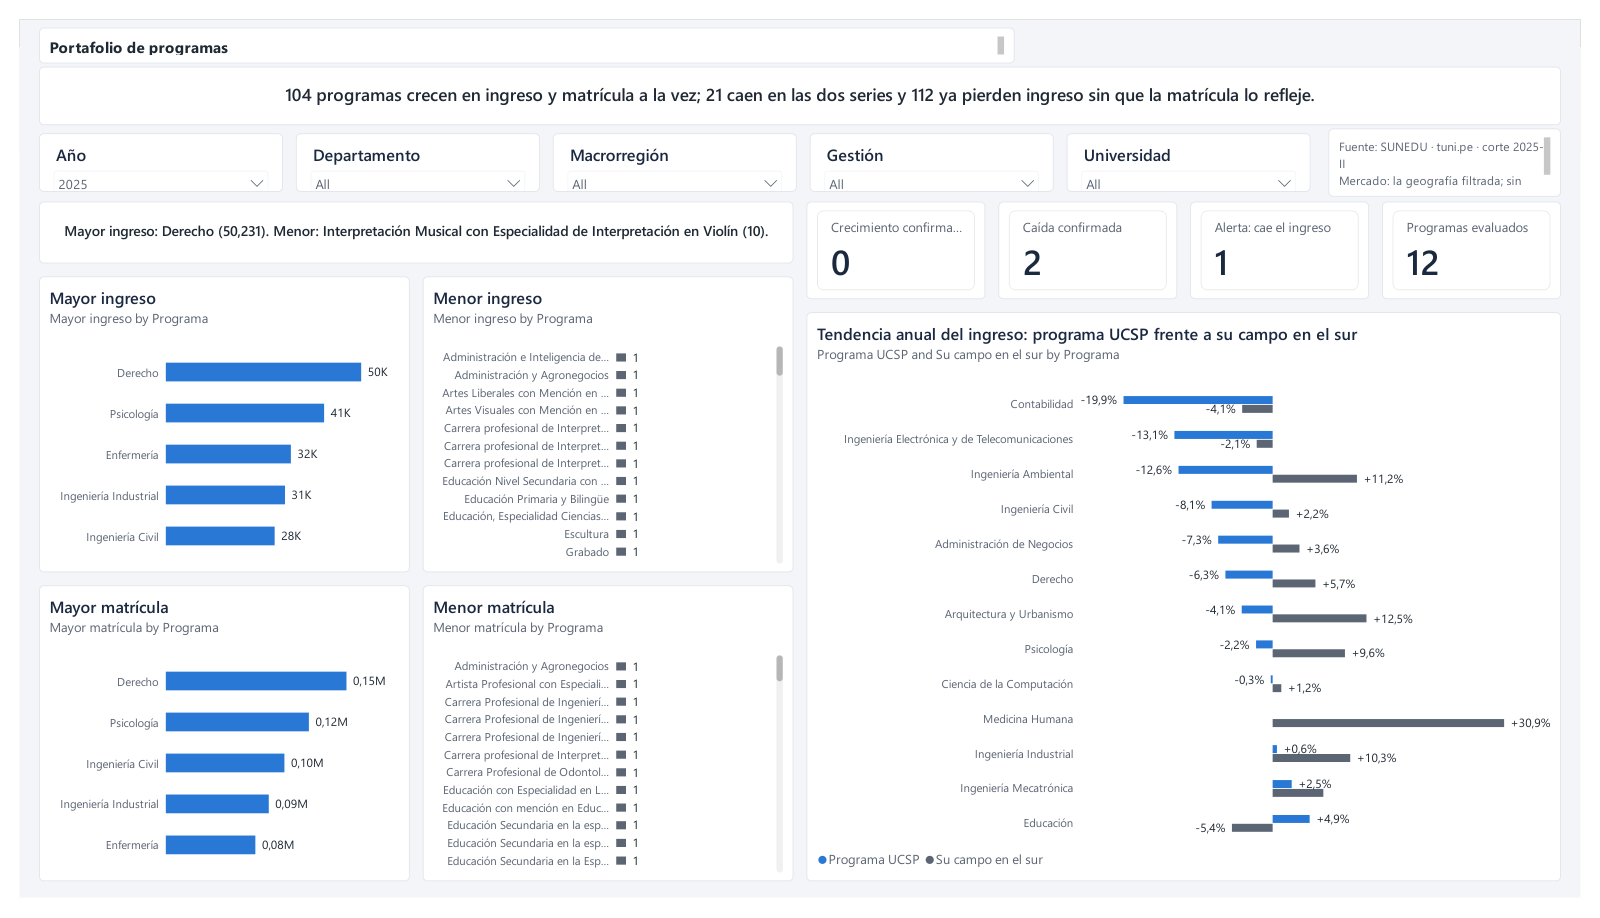

What the dashboard file says about the page in this screenshot:
{"tool":"powerbi","page":{"name":"Portafolio de programas","canvas":[1920,1080],"ordinal":2},"visuals":[{"type":"textbox","box":[24,10,1200,44],"z":0},{"type":"card","fields":{"Values":["_Medidas.Titular Tendencia"]},"box":[24,58,1872,72],"z":1000},{"type":"slicer","fields":{"Values":["dim_periodo.anio"]},"box":[24,140,300,72],"z":2000},{"type":"slicer","fields":{"Values":["dim_ubicacion.departamento"]},"box":[340,140,300,72],"z":3000},{"type":"slicer","fields":{"Values":["dim_ubicacion.macrorregion"]},"box":[656,140,300,72],"z":4000},{"type":"slicer","fields":{"Values":["dim_universidad.tipo_gestion"]},"box":[972,140,300,72],"z":5000},{"type":"slicer","fields":{"Values":["dim_universidad.nombre_universidad"]},"box":[1288,140,300,72],"z":6000},{"type":"textbox","box":[1610,134,286,84],"z":7000},{"type":"card","fields":{"Values":["_Medidas.Titular Demanda"]},"box":[24,224,928,76],"z":8000},{"type":"clusteredBarChart","title":"Mayor ingreso","fields":{"Category":["dim_programa.nombre_programa"],"Y":["_Medidas.Ingresantes"]},"box":[24,316,456,364],"z":9000},{"type":"clusteredBarChart","title":"Menor ingreso","fields":{"Category":["dim_programa.nombre_programa"],"Y":["_Medidas.Ingresantes"]},"box":[496,316,456,364],"z":10000},{"type":"clusteredBarChart","title":"Mayor matrícula","fields":{"Category":["dim_programa.nombre_programa"],"Y":["_Medidas.Matriculados"]},"box":[24,696,456,364],"z":11000},{"type":"clusteredBarChart","title":"Menor matrícula","fields":{"Category":["dim_programa.nombre_programa"],"Y":["_Medidas.Matriculados"]},"box":[496,696,456,364],"z":12000},{"type":"cardVisual","fields":{"Data":["_Medidas.Programas Crecimiento Confirmado"]},"box":[968,224,220,120],"z":13000},{"type":"cardVisual","fields":{"Data":["_Medidas.Programas Caida Confirmada"]},"box":[1204,224,220,120],"z":14000},{"type":"cardVisual","fields":{"Data":["_Medidas.Programas en Alerta"]},"box":[1440,224,220,120],"z":15000},{"type":"cardVisual","fields":{"Data":["_Medidas.Programas Evaluados"]},"box":[1676,224,220,120],"z":16000},{"type":"clusteredBarChart","title":"Tendencia anual del ingreso: programa UCSP frente a su campo en el sur","fields":{"Category":["dim_programa.nombre_programa"],"Y":["_Medidas.CAGR OLS Ingresantes","_Medidas.CAGR Campo Sur Ingresantes"]},"box":[968,360,928,700],"z":17000}]}

Visuals, with their boxes in screenshot pixels (x1, y1, x2, y2), scaled from the page's 1920x1080 canvas onto the 1600x918 screenshot:
textbox: 20,8,1020,46
card - _Medidas.Titular Tendencia: 20,49,1580,110
slicer - dim_periodo.anio: 20,119,270,180
slicer - dim_ubicacion.departamento: 283,119,533,180
slicer - dim_ubicacion.macrorregion: 547,119,797,180
slicer - dim_universidad.tipo_gestion: 810,119,1060,180
slicer - dim_universidad.nombre_universidad: 1073,119,1323,180
textbox: 1342,114,1580,185
card - _Medidas.Titular Demanda: 20,190,793,255
"Mayor ingreso" clusteredBarChart: 20,269,400,578
"Menor ingreso" clusteredBarChart: 413,269,793,578
"Mayor matrícula" clusteredBarChart: 20,592,400,901
"Menor matrícula" clusteredBarChart: 413,592,793,901
cardVisual - _Medidas.Programas Crecimiento Confirmado: 807,190,990,292
cardVisual - _Medidas.Programas Caida Confirmada: 1003,190,1187,292
cardVisual - _Medidas.Programas en Alerta: 1200,190,1383,292
cardVisual - _Medidas.Programas Evaluados: 1397,190,1580,292
"Tendencia anual del ingreso: programa UCSP frente a su campo en el sur" clusteredBarChart: 807,306,1580,901
